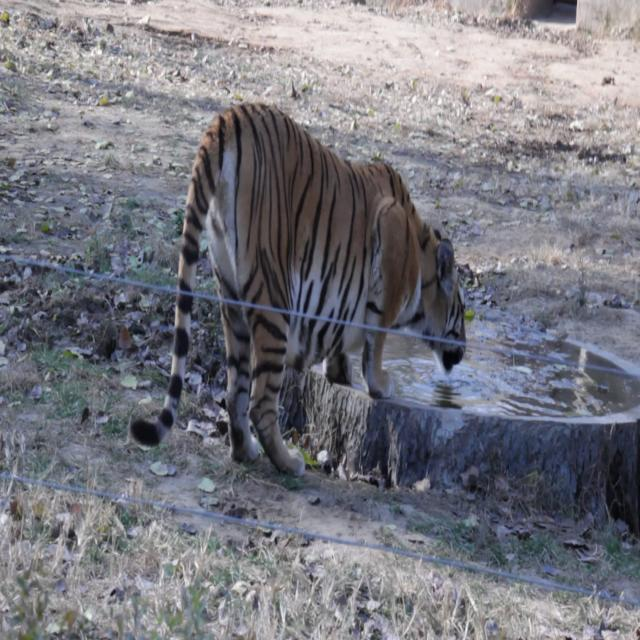Tiger: (120, 99, 479, 524)
